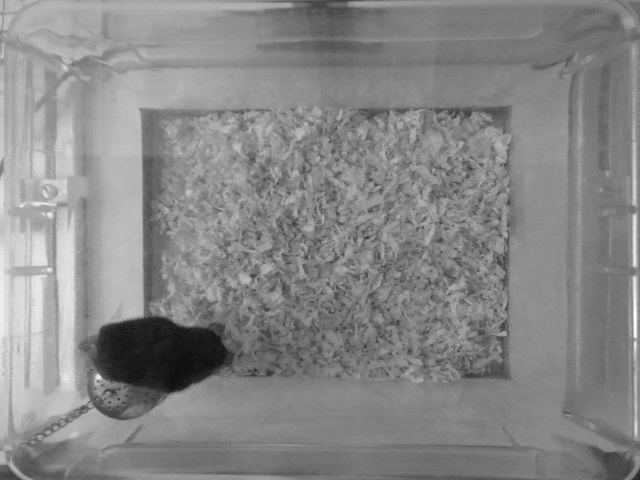mice: (78, 313, 231, 392)
